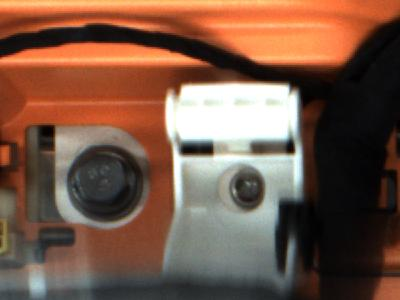nut_b: (61, 143, 148, 216)
